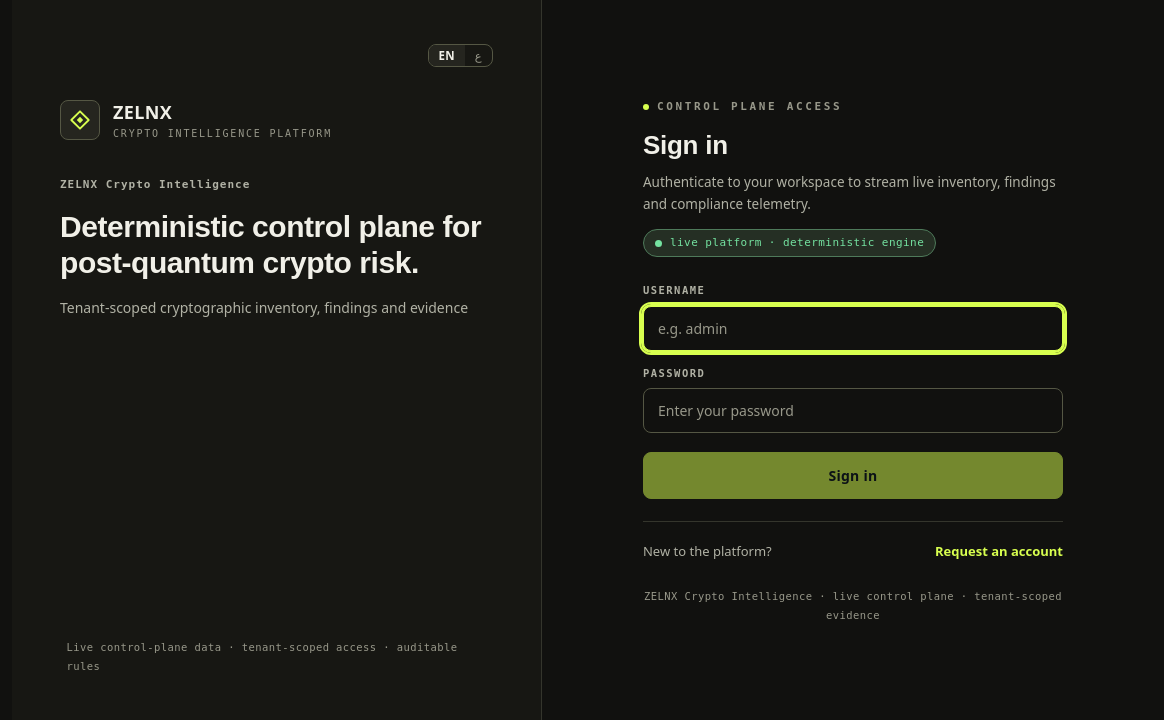
Test case: login to authenticated workspace › waits for /auth/me instead of bouncing back to login
Later steps or results of the test are not shown.
Type "operator" into the field labelled "Username".
click(853, 328); type("operator")  # box [643,306,1063,351]
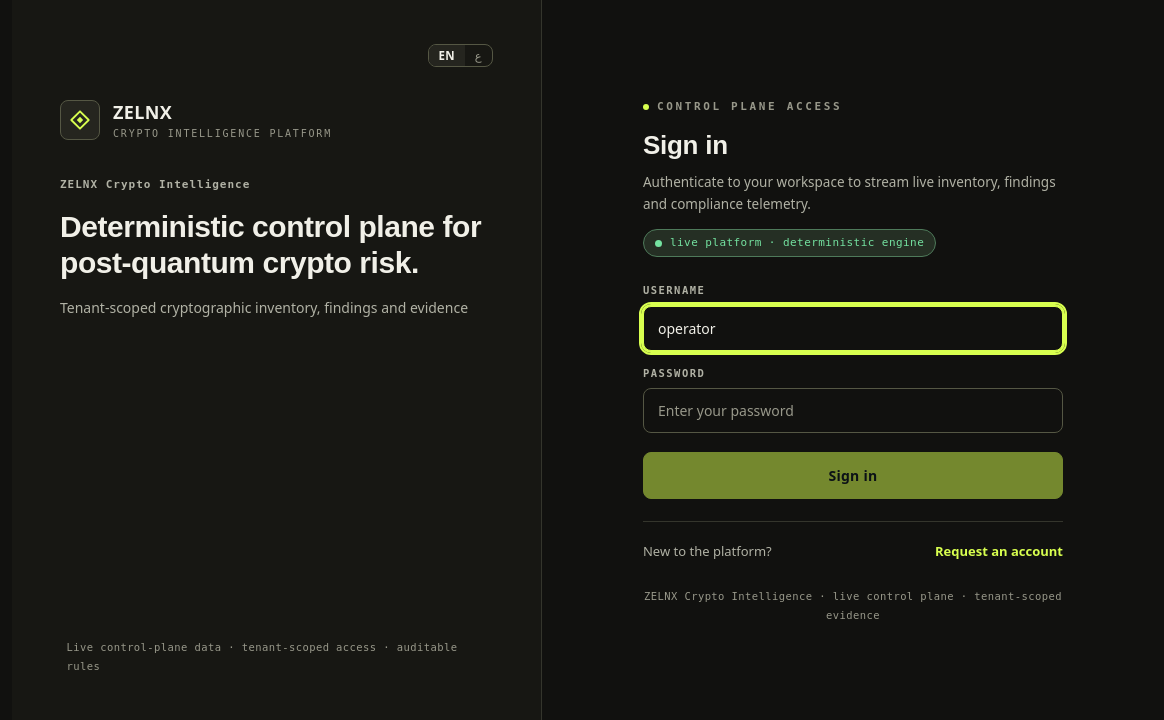
Type "strong-credential" into the password field labelled "Password".
click(853, 410); type("strong-credential")  # box [643,388,1063,433]
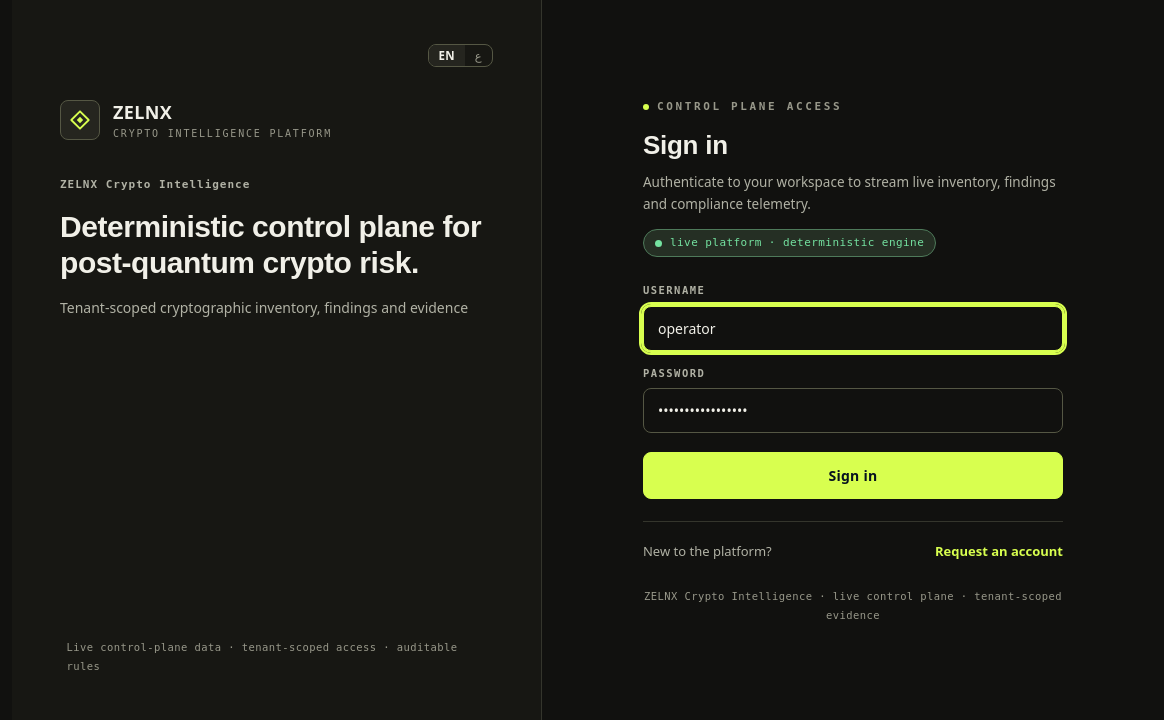
Click the button "Sign in".
click(853, 475)  # box [643,452,1063,499]
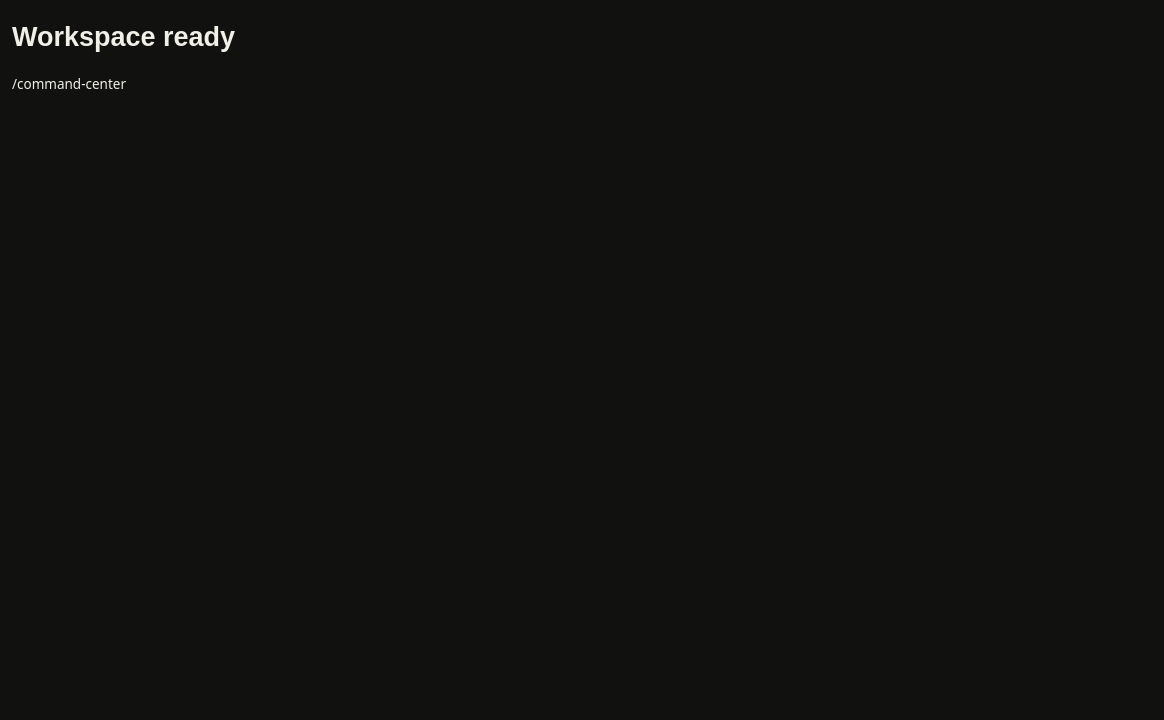
Result: the heading "Workspace ready" is shown at [12,22,235,52]
Result: the text with test id "path" reads "/command-center" at [12,75,126,93]
